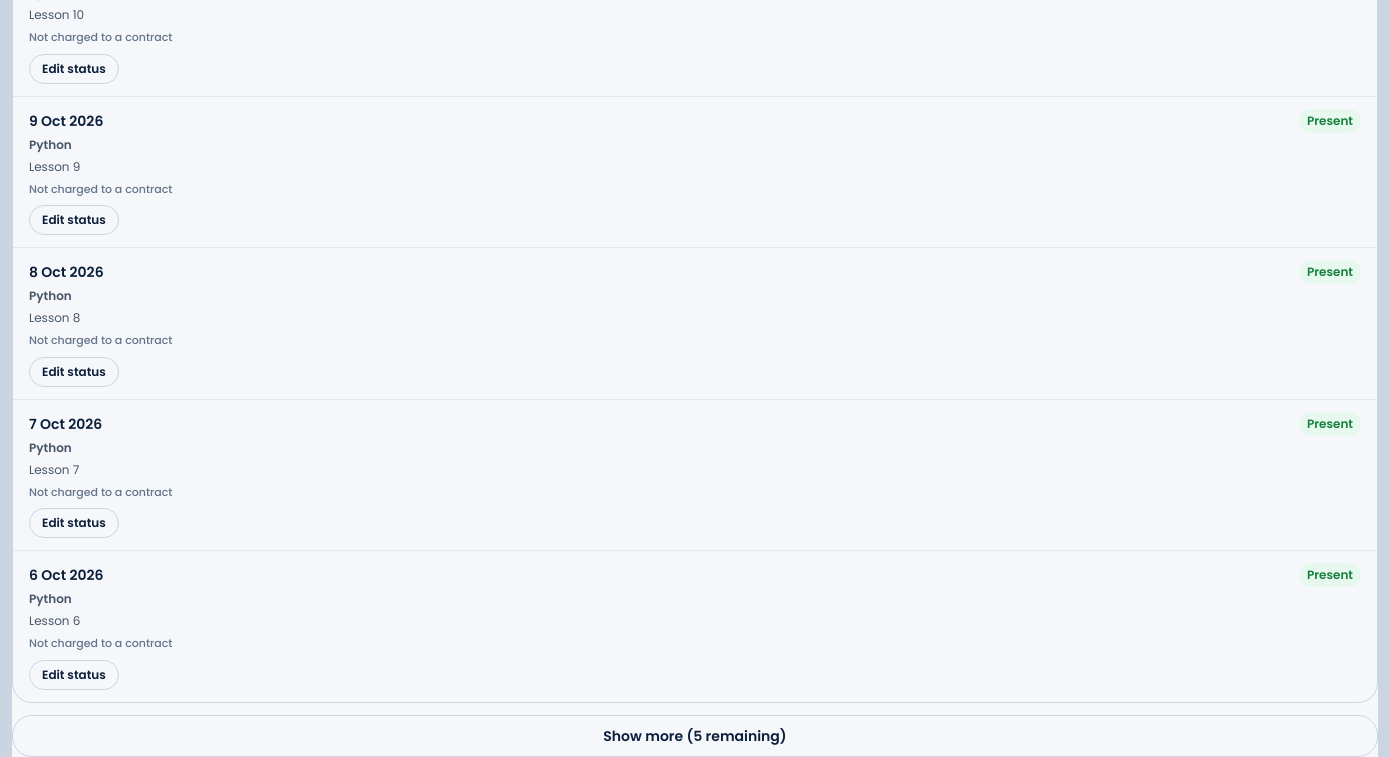
student attendance selection › keeps totals for all sessions while progressively revealing history beyond the old 10-record limit
(page scrolled)
Click the button "Show more (5 remaining)". click: x=695, y=736
box: [12,714,1378,756]
(page scrolled)
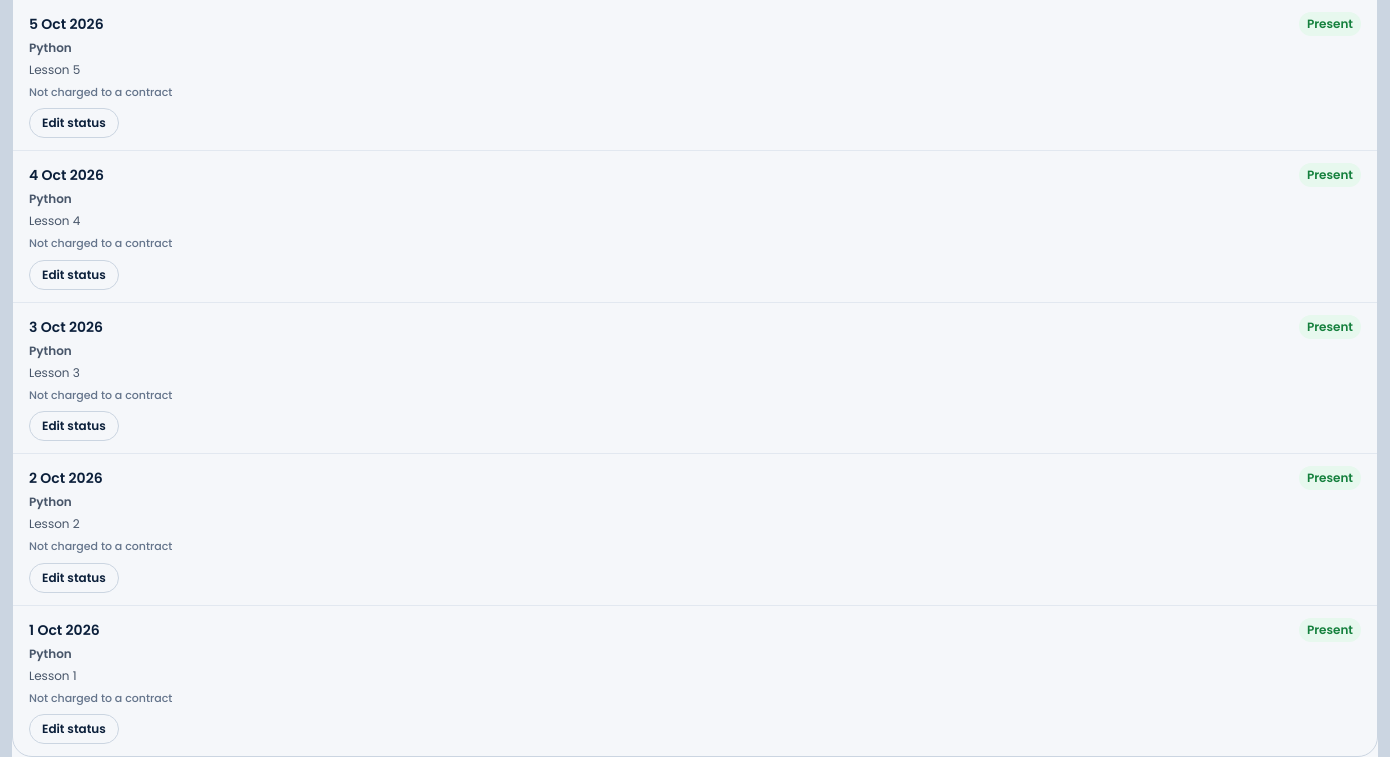
Now the text "Lesson 1" is shown, box [29,666,77,684]
